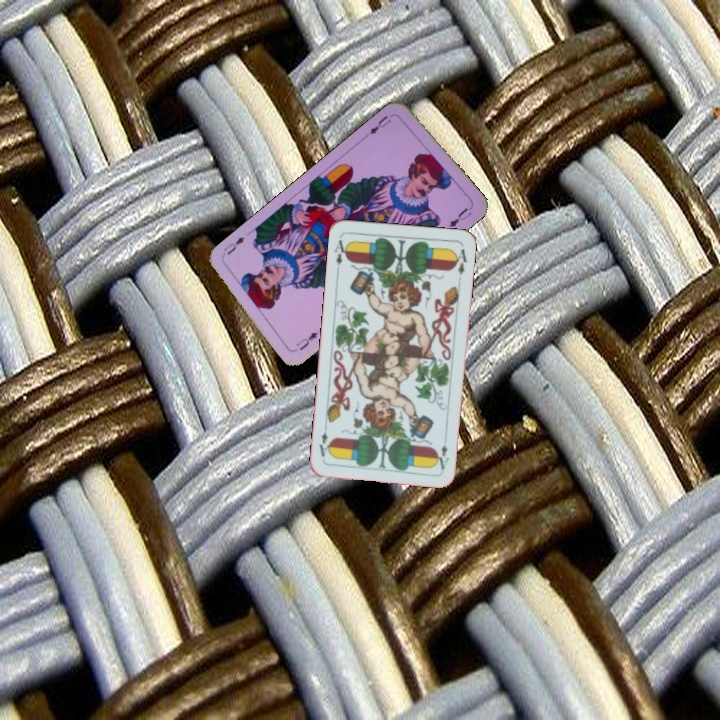EA: (330, 234, 351, 274), (433, 441, 452, 472)
EU: (292, 322, 327, 353), (362, 111, 396, 140)
